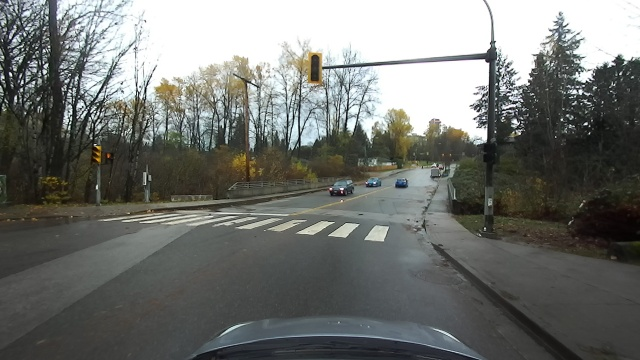car: (329, 179, 357, 197), (365, 175, 382, 189), (427, 166, 443, 179), (392, 177, 409, 189)
